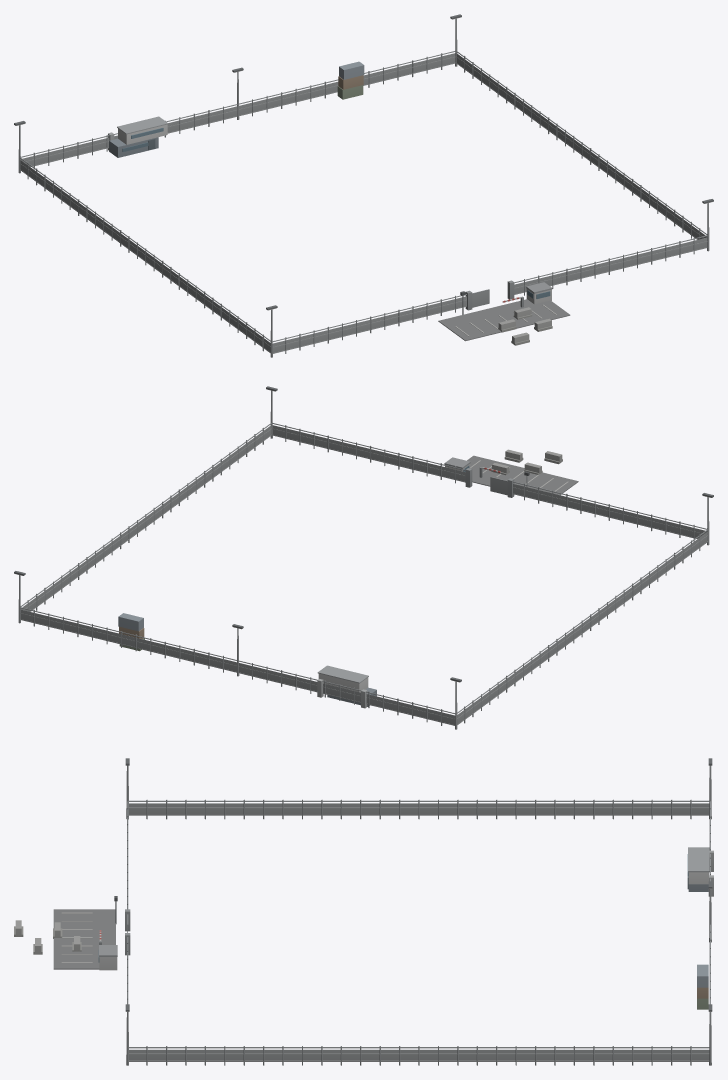
3 views of the same model, one above another, from view 1: azimuth 30°, elevation 25°; view 2: azimuth 150°, elevation 25°; view 3: azimuth 270°, elevation 25° (orthographic). The views are drawn at different scales.
Visible parts, largest first — view 1: mesh; view 2: mesh; view 3: mesh.
Boxes of the visible parts, x1,y1,x2,y2 form: mesh: (14, 14, 713, 357); mesh: (14, 386, 713, 729); mesh: (14, 758, 713, 1065).
Bounding box in the file's own units: 153 × 16.46 × 180.
